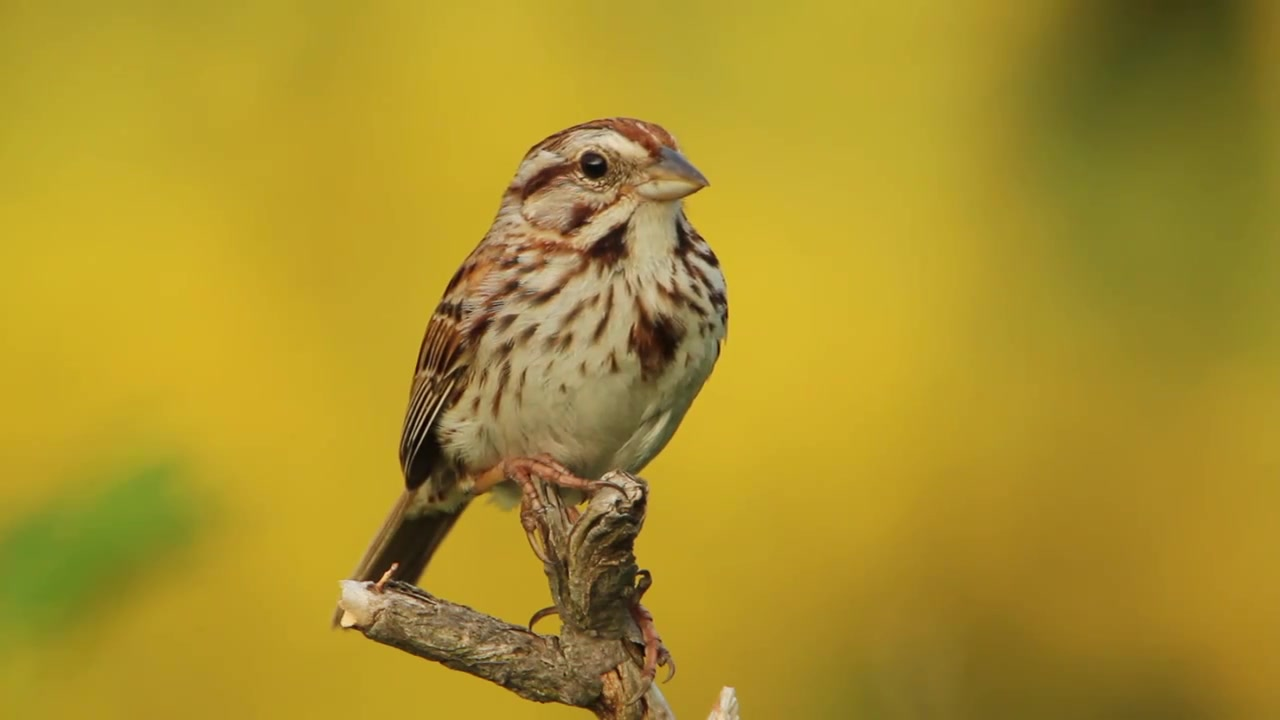bird: (334, 120, 733, 711)
